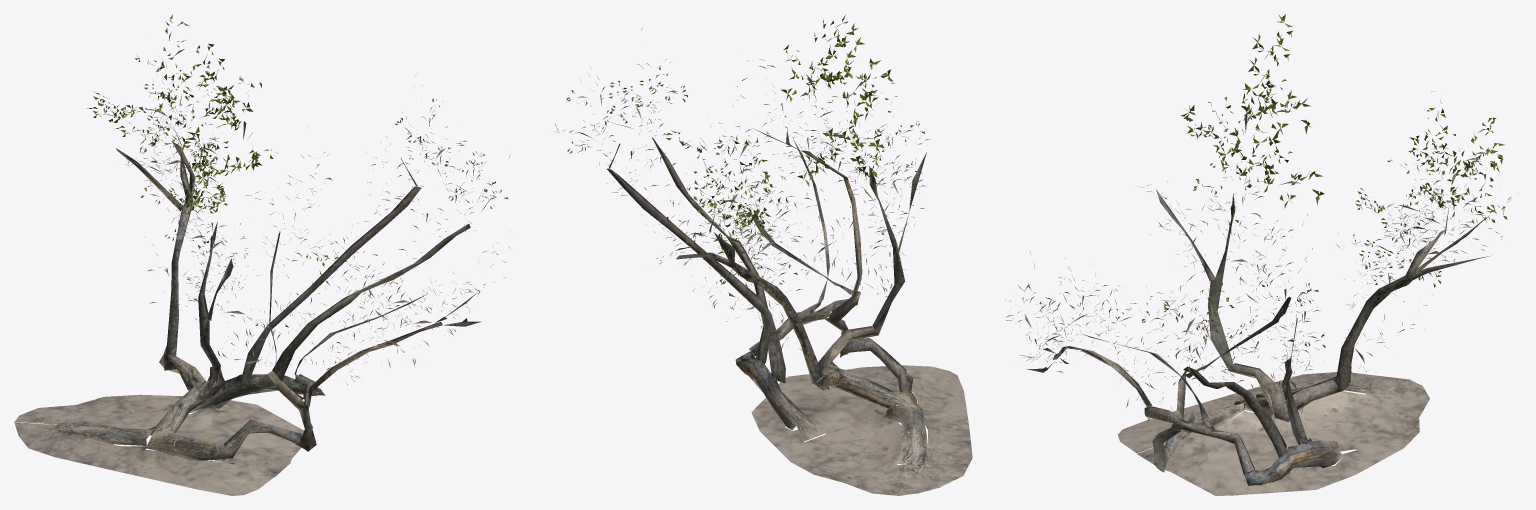
File: tree_island_03.glb
3 renders of one model, left to right at view 1: azimuth 30°, elevation 25°; view 2: azimuth 150°, elevation 25°; view 3: azimuth 270°, elevation 25°, orthographic. The views are drawn at different scales.
Visible parts, largest first — view 1: tree_island_03; view 2: tree_island_03; view 3: tree_island_03.
Part boxes in pixels (x1=…): tree_island_03: x1=14, y1=14, x2=510, y2=495; tree_island_03: x1=555, y1=15, x2=972, y2=495; tree_island_03: x1=1005, y1=14, x2=1518, y2=495.
Bounding box in the file's own units: 10.18 × 9 × 9.73.
3 materials, 3 textured.
